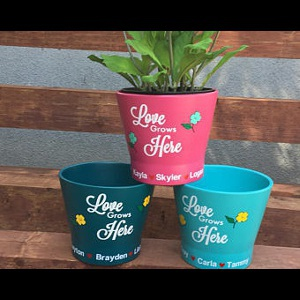flowerpot: (169, 165, 274, 274), (114, 82, 221, 187), (60, 160, 160, 265)
